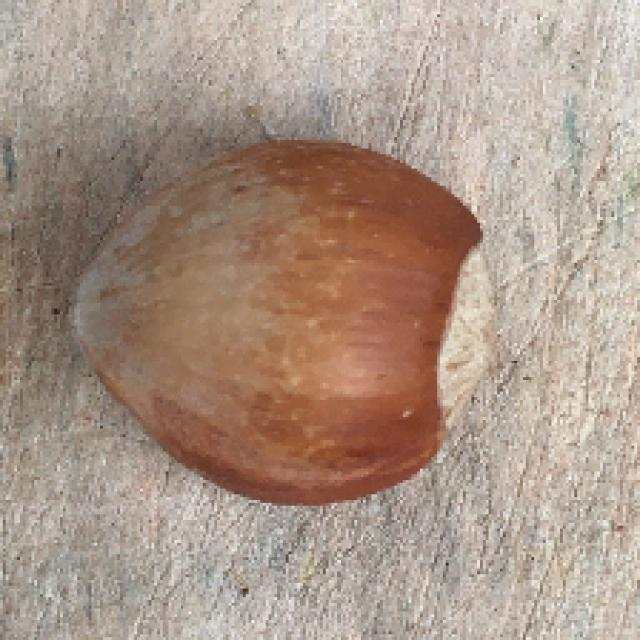qualityHazelnut: (69, 133, 498, 504)
